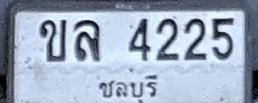2: (156, 18, 178, 60), (184, 18, 206, 60)
4: (128, 18, 149, 60)
5: (212, 17, 233, 60)
A02: (40, 18, 66, 61)
A36: (74, 19, 100, 61)
CBI: (93, 70, 163, 103)
